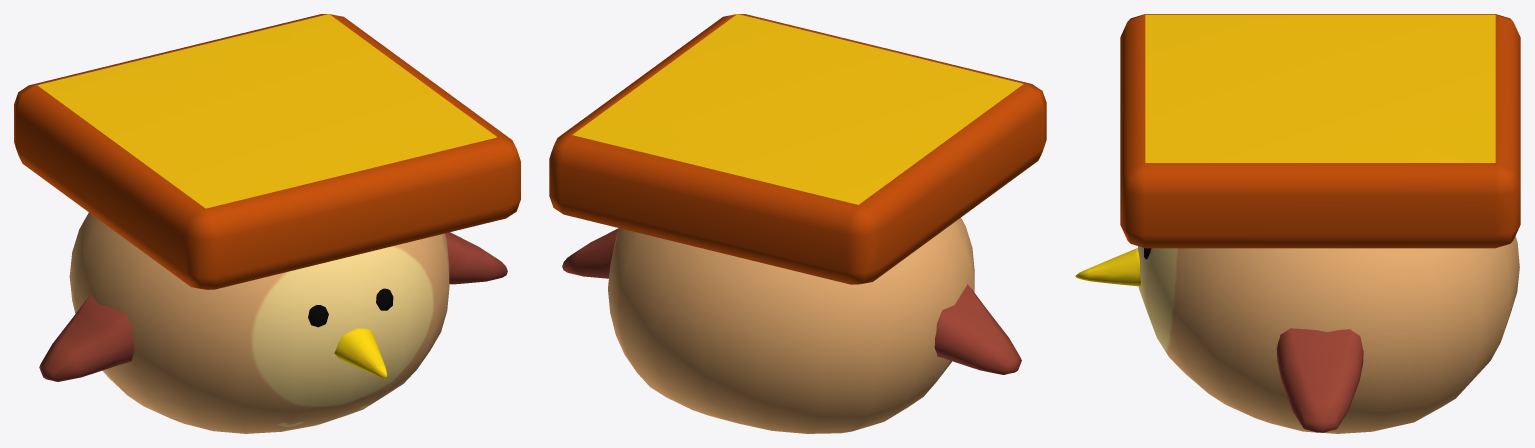
The model's file is BirdPlatformNoSkin.fbx.
The picture shows the model from 3 angles, left to right: view 1: azimuth 30°, elevation 25°; view 2: azimuth 150°, elevation 25°; view 3: azimuth 270°, elevation 25°; orthographic projection. The views are drawn at different scales.
Parts seen in each view (by area): view 1: BirdPlatform5, polySurface6, polySurface9, polySurface2; view 2: BirdPlatform5, polySurface6, polySurface9, polySurface2; view 3: BirdPlatform5, polySurface6, polySurface2.
Boxes of the visible parts, box(x1,y1,x2,y2) form: BirdPlatform5: box(14, 14, 520, 289); polySurface6: box(69, 212, 449, 433); polySurface9: box(39, 295, 133, 381); polySurface2: box(445, 232, 507, 284); BirdPlatform5: box(549, 14, 1046, 284); polySurface6: box(608, 218, 974, 433); polySurface9: box(934, 284, 1021, 374); polySurface2: box(562, 228, 618, 278); BirdPlatform5: box(1120, 14, 1520, 248); polySurface6: box(1075, 236, 1519, 433); polySurface2: box(1276, 328, 1363, 432).
Size of the model in its own units: 3.05 by 1.88 by 2.46.
Materials: 1 (1 with a texture image).
